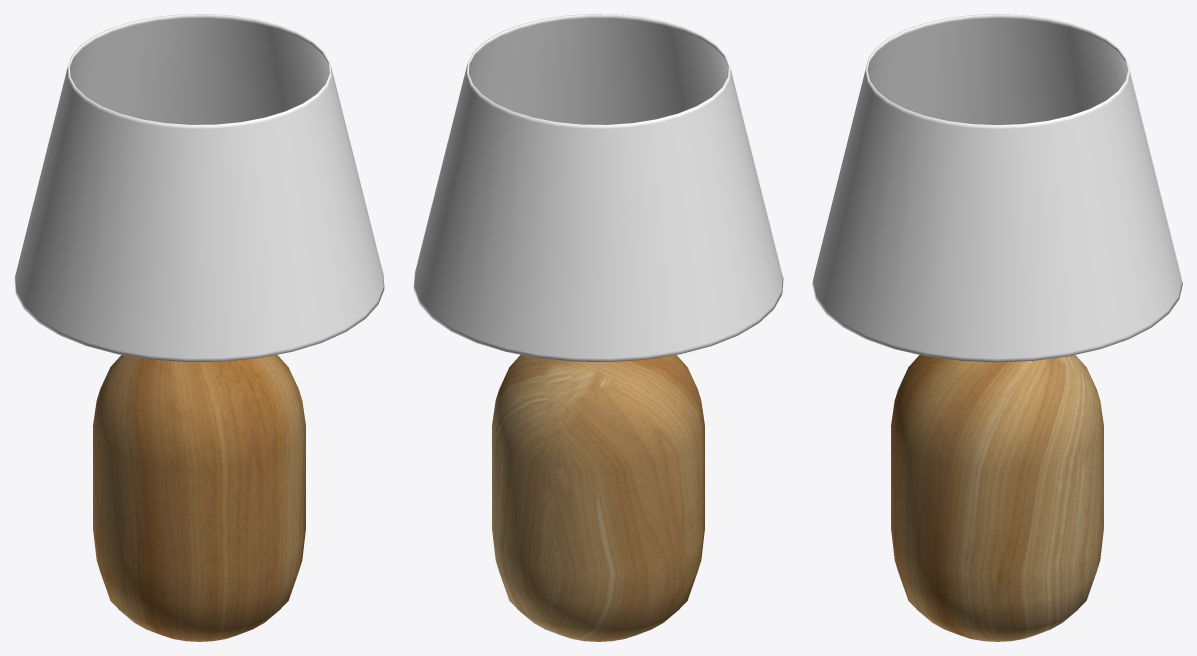
File: MEGA_PACK_lamp__lamp-126685_frame.glb
The picture shows the model from 3 angles, left to right: view 1: azimuth 30°, elevation 25°; view 2: azimuth 150°, elevation 25°; view 3: azimuth 270°, elevation 25°; orthographic projection.
Parts seen in each view (by area): view 1: lamp-126685_frame; view 2: lamp-126685_frame; view 3: lamp-126685_frame.
Boxes of the visible parts, box(x1,y1,x2,y2) form: lamp-126685_frame: box(14, 14, 384, 641); lamp-126685_frame: box(413, 14, 783, 641); lamp-126685_frame: box(812, 14, 1182, 641).
Size of the model in its own units: 0.2 by 0.33 by 0.2.
Materials: 1 (1 with a texture image).
